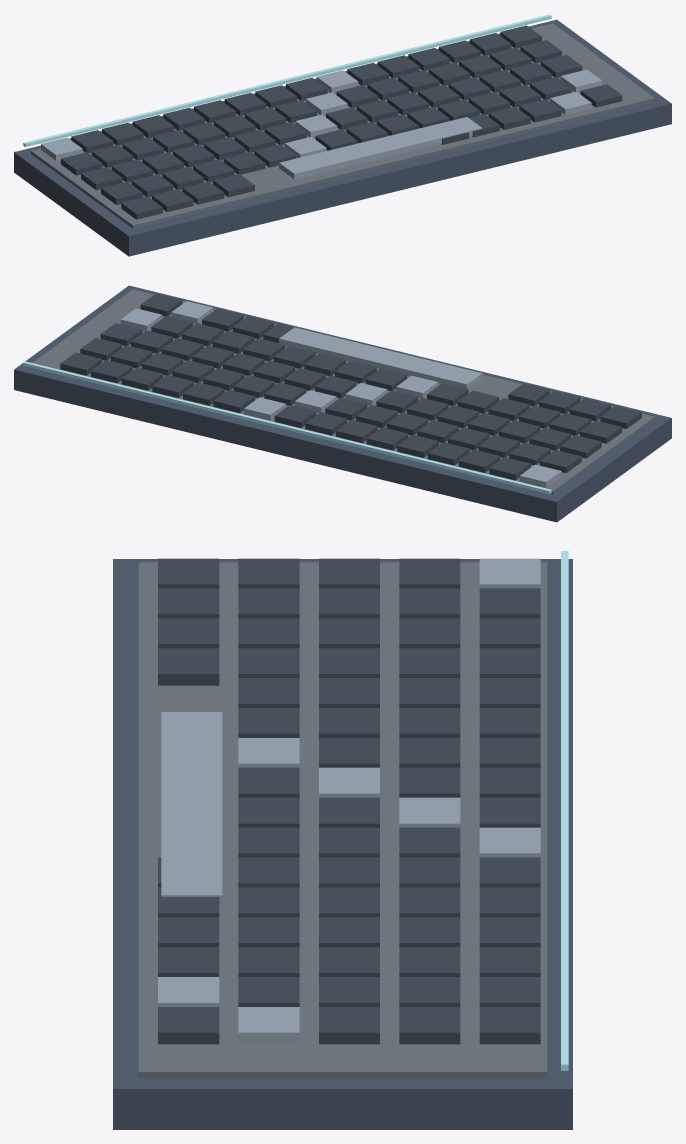
File: keyboard.glb
3 views of the same model, one above another, from view 1: azimuth 30°, elevation 25°; view 2: azimuth 150°, elevation 25°; view 3: azimuth 270°, elevation 25° (orthographic). The views are drawn at different scales.
Visible parts, largest first — view 1: keyboard_body_1, keybed_2, spacebar_77, rgb_keyboard_strip_78, keycap_67, keycap_74, keycap_76, keycap_69, keycap_73, keycap_55, keycap_70, keycap_75 (+65 smaller); view 2: keyboard_body_1, keybed_2, spacebar_77, rgb_keyboard_strip_78, keycap_3, keycap_8, keycap_16, keycap_5, keycap_11, keycap_13, keycap_4, keycap_6 (+64 smaller); view 3: keybed_2, keyboard_body_1, spacebar_77, rgb_keyboard_strip_78, keycap_66, keycap_70, keycap_18, keycap_34, keycap_76, keycap_50, keycap_51, keycap_52 (+65 smaller).
Part boxes in pixels (box(x1,y1,x2,y2)): keyboard_body_1: box(14, 19, 671, 256); keybed_2: box(31, 23, 654, 228); spacebar_77: box(279, 117, 482, 179); rgb_keyboard_strip_78: box(23, 14, 551, 146); keycap_67: box(121, 196, 162, 219); keycap_74: box(519, 99, 561, 122); keycap_76: box(580, 84, 622, 107); keycap_69: box(182, 181, 224, 204); keycap_73: box(488, 106, 530, 129); keycap_55: box(223, 152, 265, 174); keycap_70: box(213, 174, 254, 197); keycap_75: box(550, 91, 591, 114); keyboard_body_1: box(14, 285, 671, 522); keybed_2: box(32, 289, 654, 494); spacebar_77: box(279, 327, 482, 389); rgb_keyboard_strip_78: box(23, 361, 551, 494); keycap_3: box(519, 464, 561, 487); keycap_8: box(366, 427, 408, 450); keycap_16: box(121, 367, 163, 390); keycap_5: box(458, 449, 500, 472); keycap_11: box(274, 405, 316, 427); keycap_13: box(213, 390, 255, 412); keycap_4: box(489, 457, 530, 480); keycap_6: box(428, 442, 469, 465); keybed_2: box(138, 562, 547, 1078); keyboard_body_1: box(113, 559, 572, 1129); spacebar_77: box(161, 712, 222, 906); rgb_keyboard_strip_78: box(561, 551, 568, 1070); keycap_66: box(238, 1007, 299, 1044); keycap_70: box(158, 648, 219, 685); keycap_18: box(479, 1007, 540, 1044); keycap_34: box(399, 1007, 460, 1044); keycap_76: box(158, 1007, 219, 1044); keycap_50: box(319, 1007, 379, 1044); keycap_51: box(238, 558, 299, 588); keycap_52: box(238, 588, 299, 618).
Bounding box in the file's own units: 3.9 × 0.21 × 1.43.
